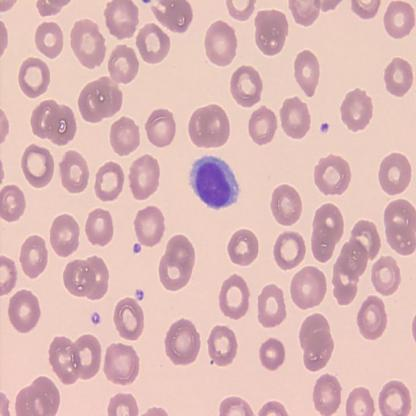Lymphocyte: (189, 154, 240, 210)
